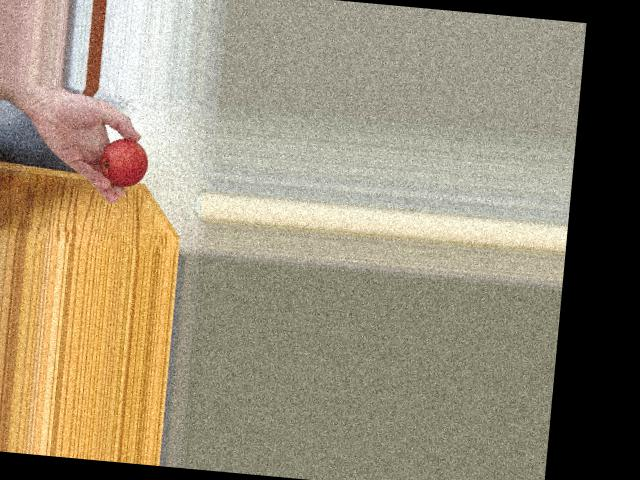apple: (96, 128, 151, 188)
